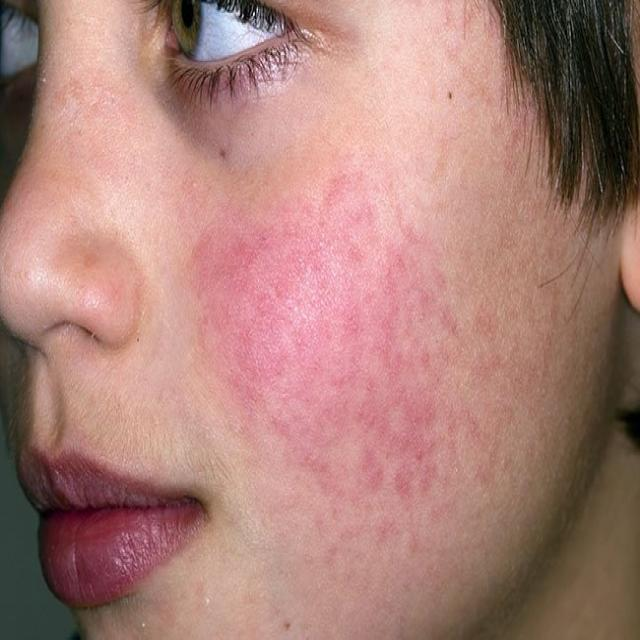Erythema infectiosum: (196, 173, 470, 482)
